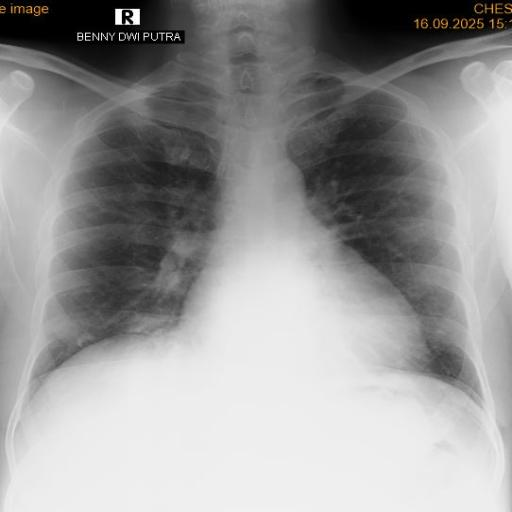kardiomegali: (16, 45, 494, 440)
